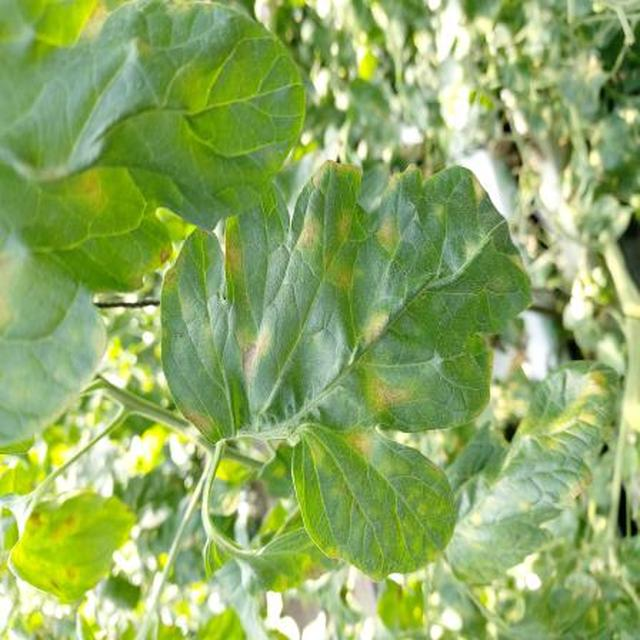Leaf Mold: (237, 323, 640, 640)
